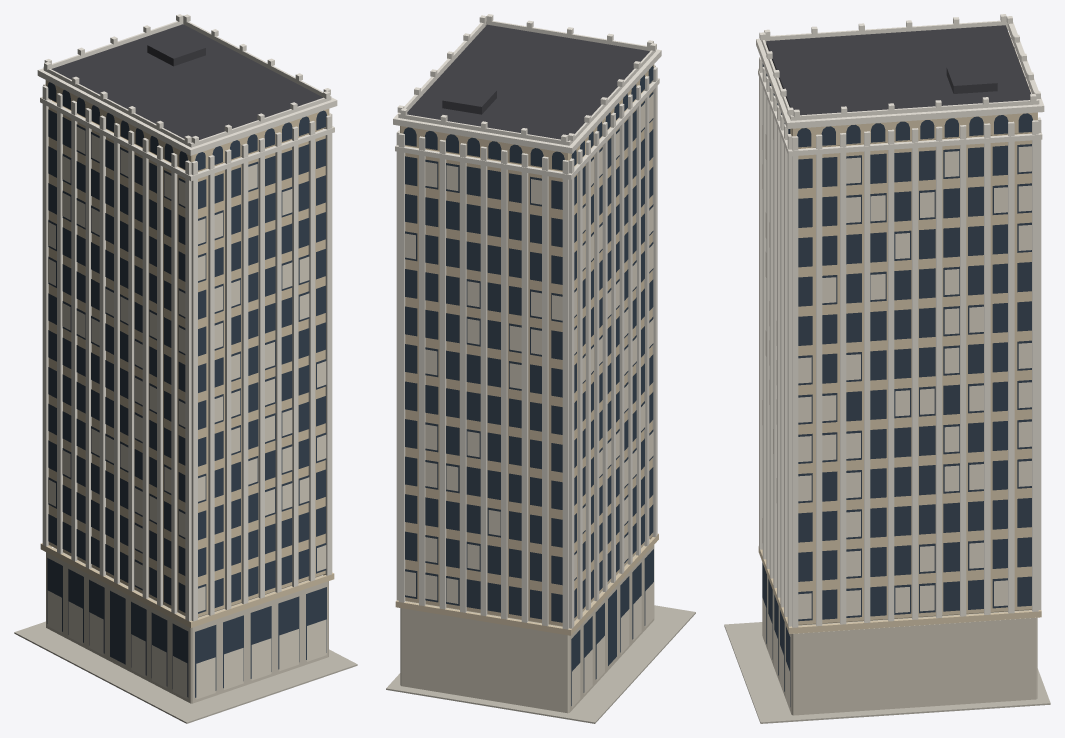
Rendered from alexander-building.glb.
3 views of the same model, side by side, from view 1: azimuth 30°, elevation 25°; view 2: azimuth 150°, elevation 25°; view 3: azimuth 270°, elevation 25° (orthographic). The views are drawn at different scales.
Visible parts, largest first — view 1: alexander-building_body, alexander-building_night_glow; view 2: alexander-building_body, alexander-building_night_glow; view 3: alexander-building_body, alexander-building_night_glow.
Boxes of the visible parts, x1,y1,x2,y2 form: alexander-building_body: [14, 14, 357, 723]; alexander-building_night_glow: [47, 126, 326, 699]; alexander-building_body: [386, 14, 695, 723]; alexander-building_night_glow: [404, 94, 653, 707]; alexander-building_body: [724, 14, 1050, 723]; alexander-building_night_glow: [762, 115, 1031, 709].
Bounding box in the file's own units: 24.93 × 60.13 × 29.35.
